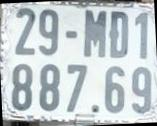-: (65, 31, 77, 38)
.: (91, 104, 99, 113)
1: (134, 12, 148, 60)
2: (15, 6, 36, 57)
6: (104, 66, 125, 113)
7: (66, 63, 88, 113)
8: (38, 64, 61, 111), (11, 64, 33, 111)
9: (38, 9, 59, 57), (131, 67, 152, 114)
D: (110, 10, 129, 60)
M: (83, 9, 106, 60)
